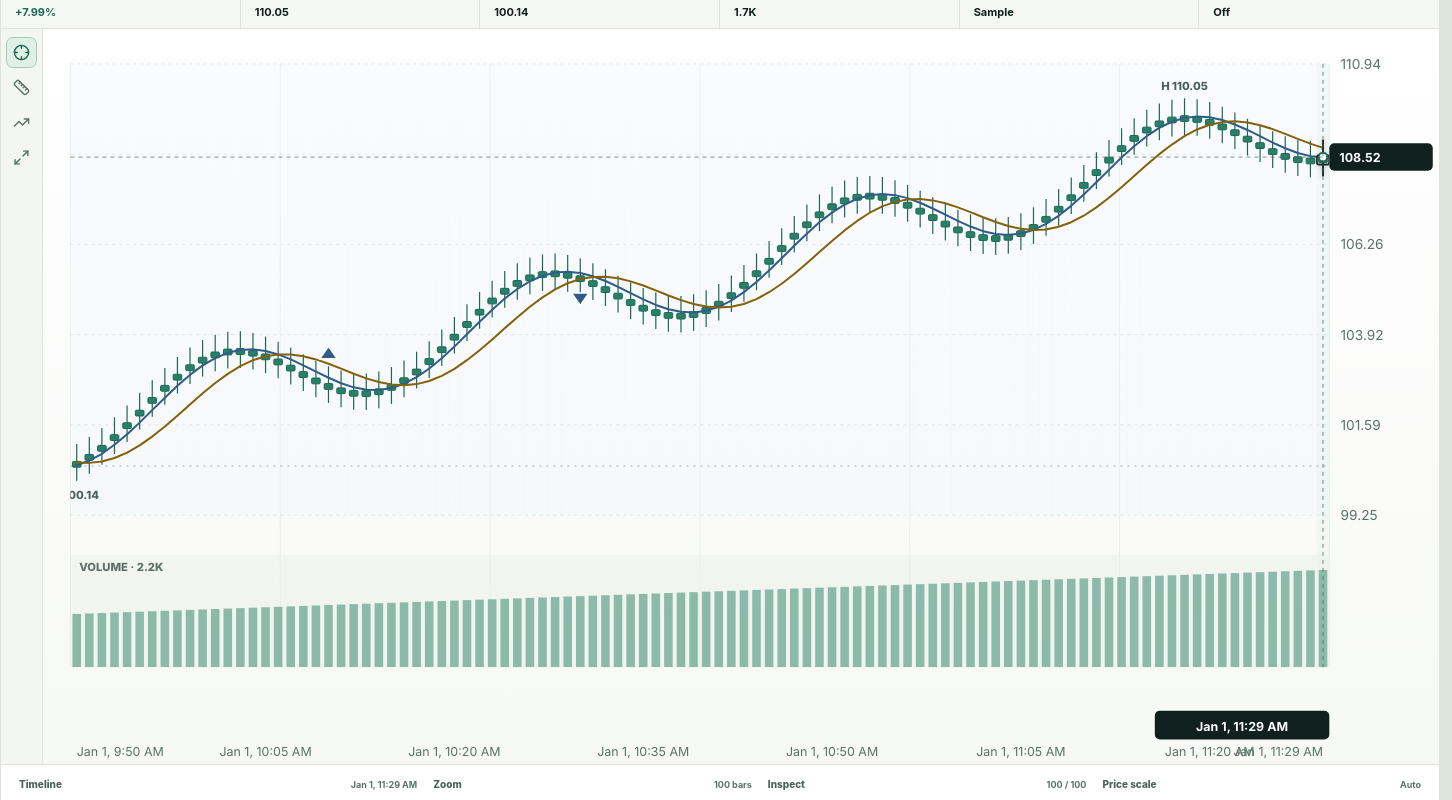
it: MarketChart › delegates candle selection and keeps marker Space from toggling replay
The image size is (1452, 800).
(page scrolled)
Click the icon named "TEST interactive candles chart" at (741,397), box x1=43 y1=29 x2=1439 y2=764
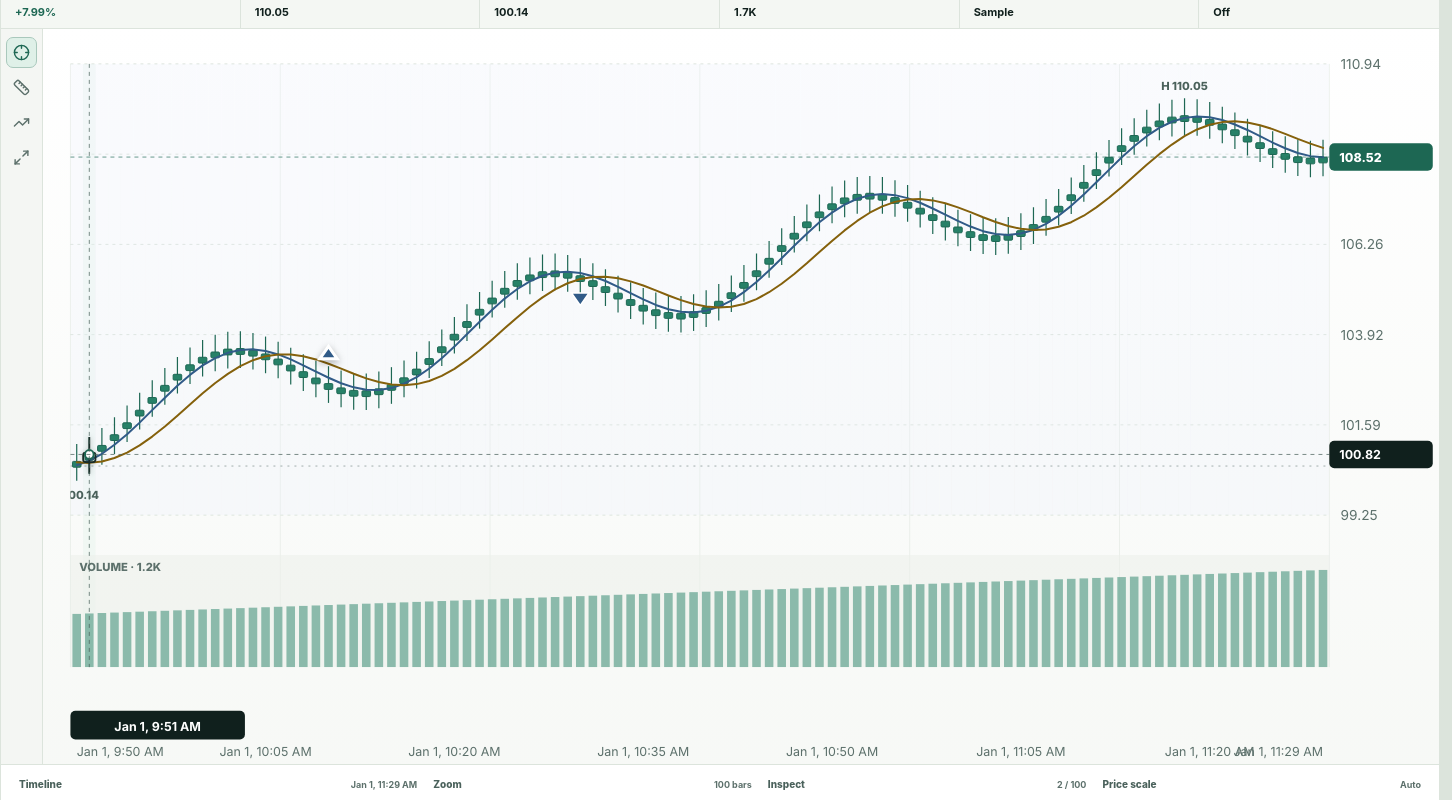
Now the text "2 / 100" is shown, box x1=1057 y1=778 x2=1086 y2=792
Press Space in the button "TEST recorded entry 103.20. Inspect this bar.", box x1=320 y1=346 x2=337 y2=359
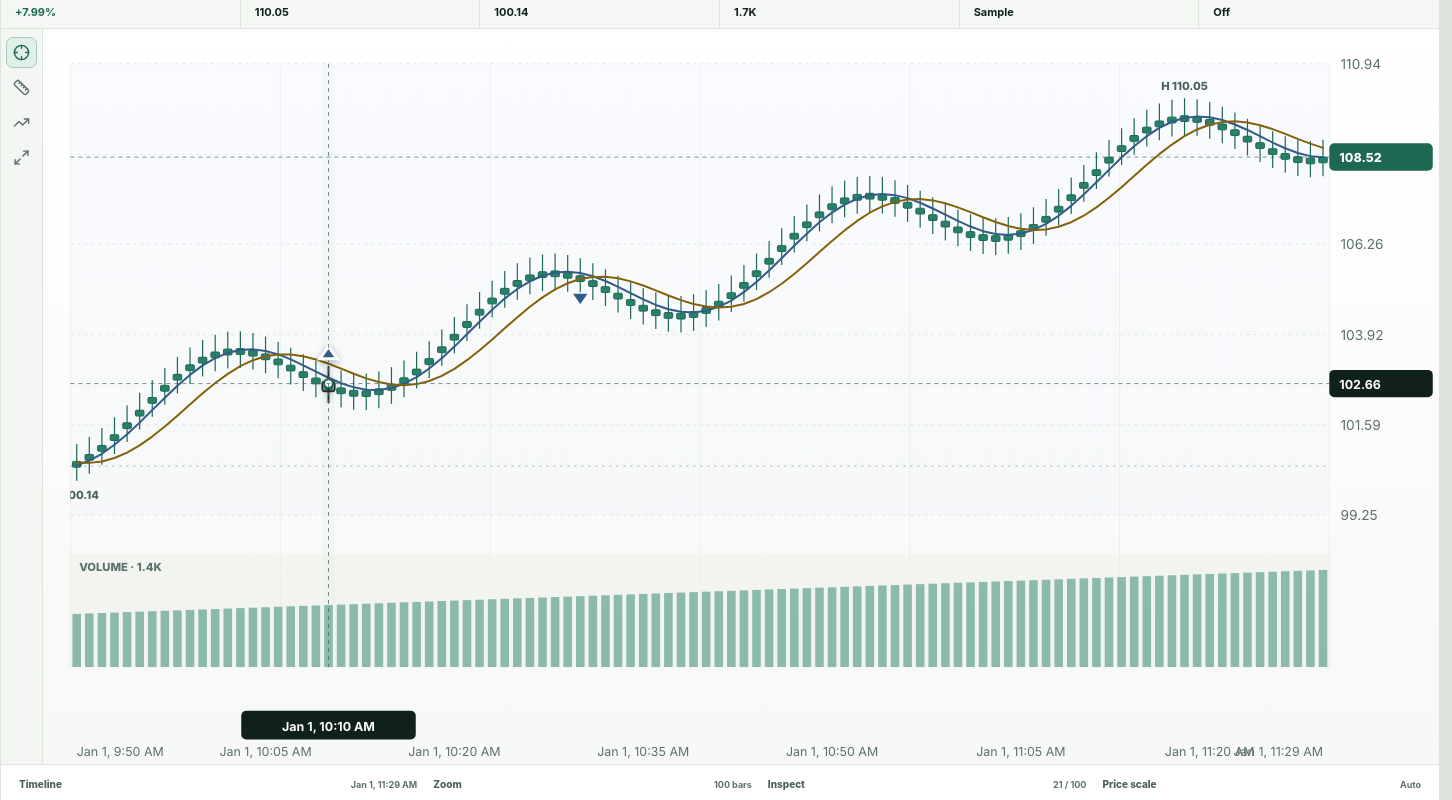
Now the text "21 / 100" is shown, box x1=1053 y1=778 x2=1086 y2=792
